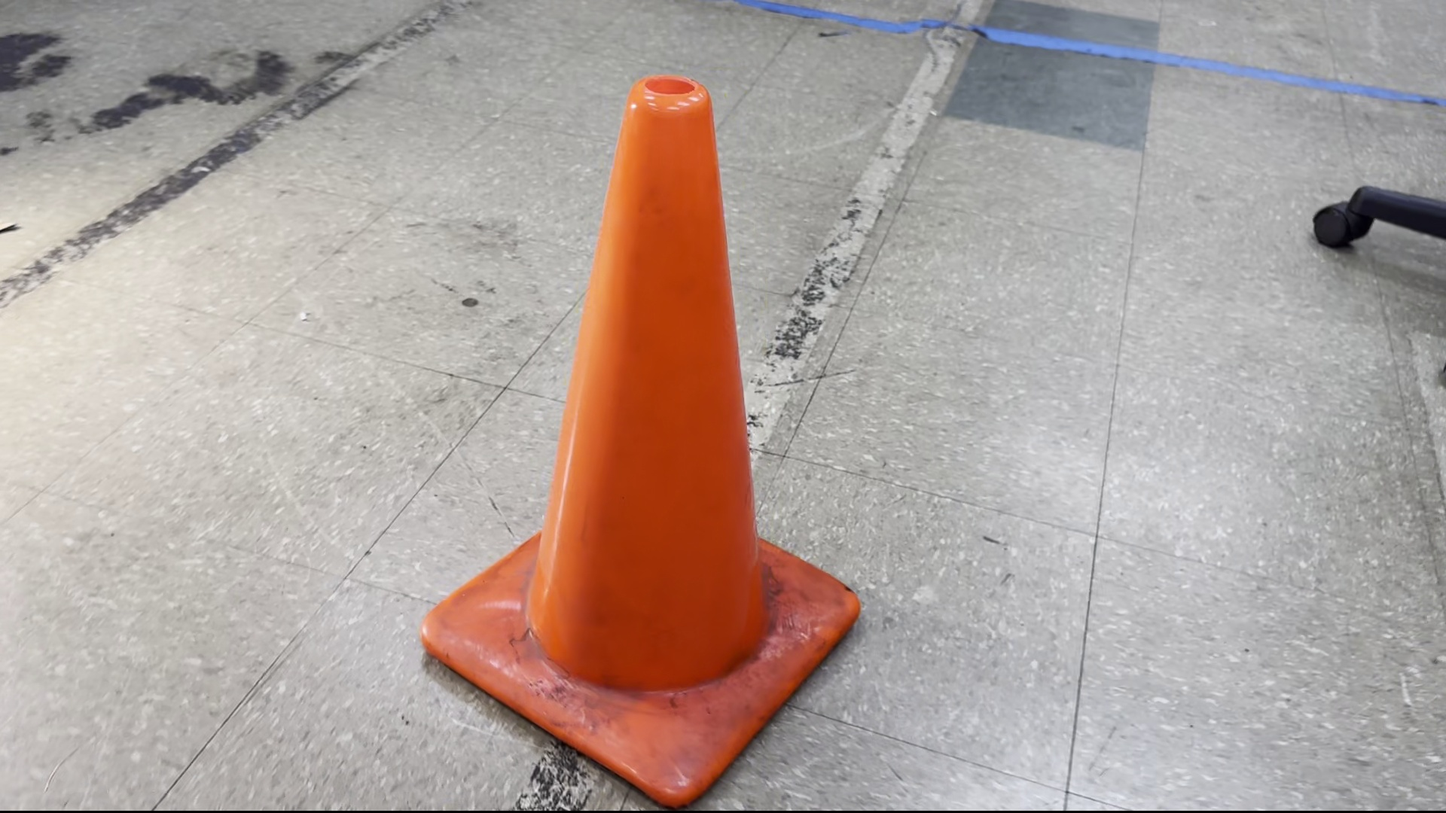traffic_cone: (419, 73, 861, 809)
